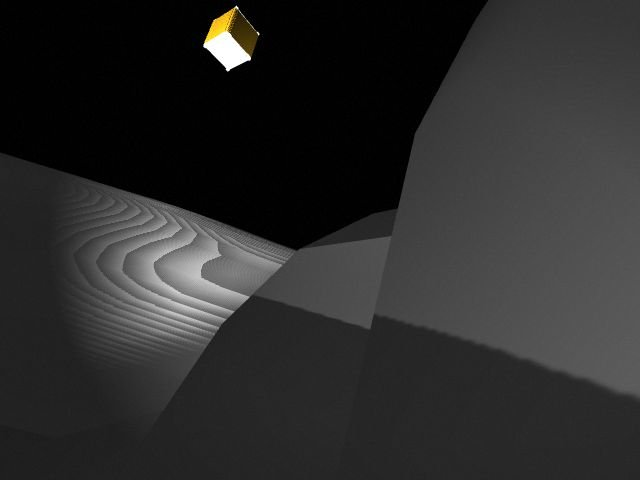cubesat: (200, 2, 261, 76)
